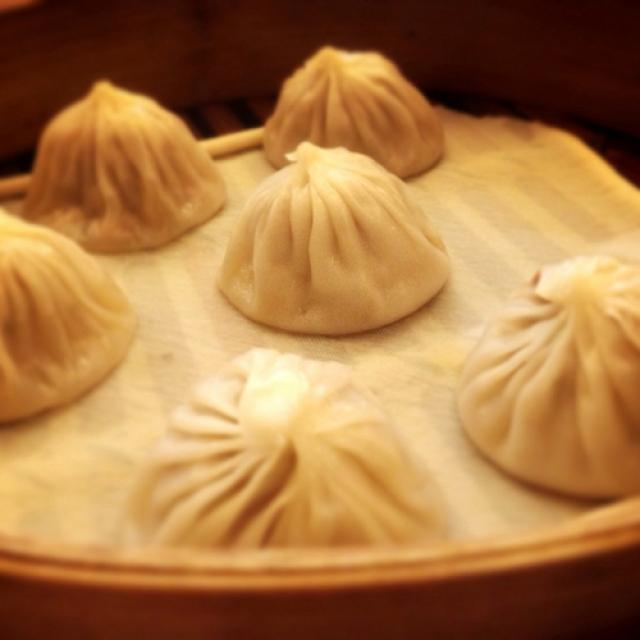带馅早点: (8, 29, 617, 592)
